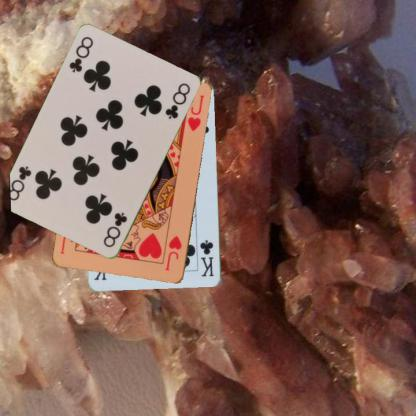8c: (66, 34, 95, 75), (100, 210, 129, 249)
Jh: (162, 233, 184, 272)
Kc: (198, 237, 215, 278)
